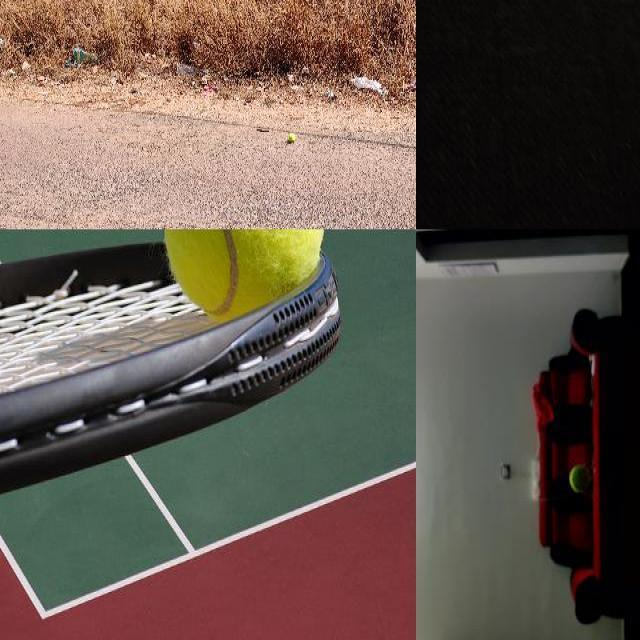tennis-ball: (569, 465, 592, 493), (289, 133, 296, 143)
